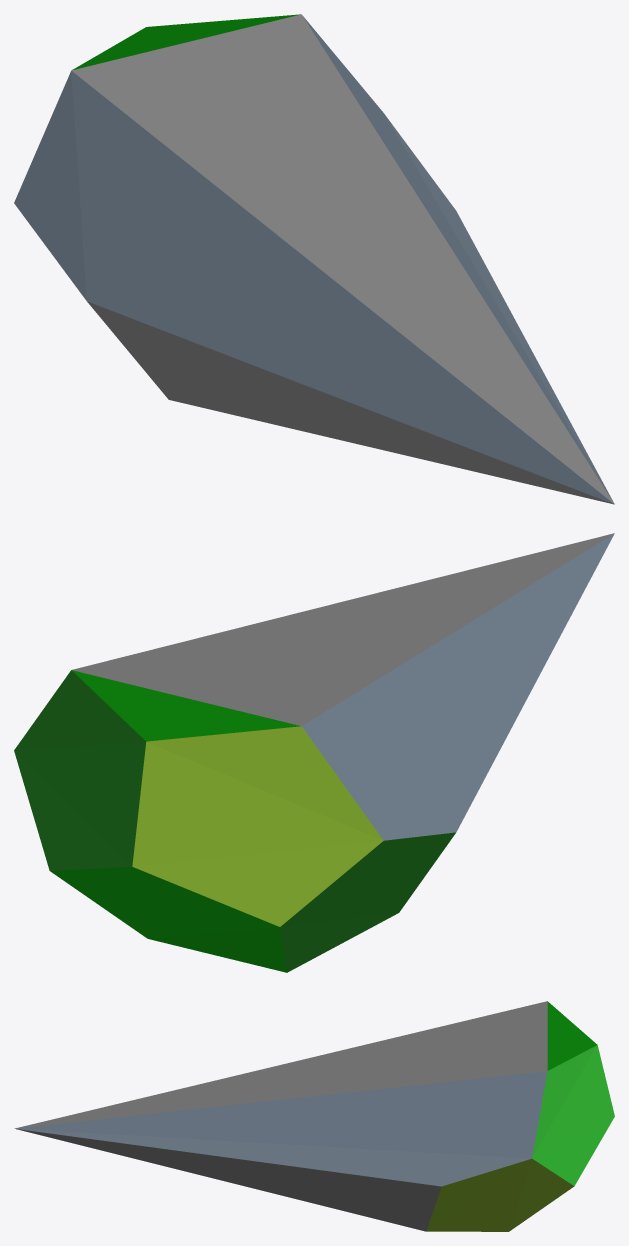
The model's file is anaconda.obj.
3 views of the same model, one above another, from view 1: azimuth 30°, elevation 25°; view 2: azimuth 150°, elevation 25°; view 3: azimuth 270°, elevation 25° (orthographic). The views are drawn at different scales.
Size of the model in its own units: 138 by 100 by 312.
